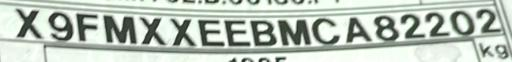letter: (102, 11, 138, 43), (277, 17, 313, 46), (13, 8, 43, 39), (137, 16, 167, 46), (169, 16, 199, 46), (46, 9, 74, 41), (310, 16, 342, 44), (196, 17, 226, 46), (248, 17, 278, 46), (74, 11, 100, 43), (372, 13, 400, 42), (224, 17, 252, 46), (398, 12, 428, 39), (344, 14, 372, 42), (448, 9, 476, 35), (474, 7, 502, 32), (424, 10, 450, 36)
